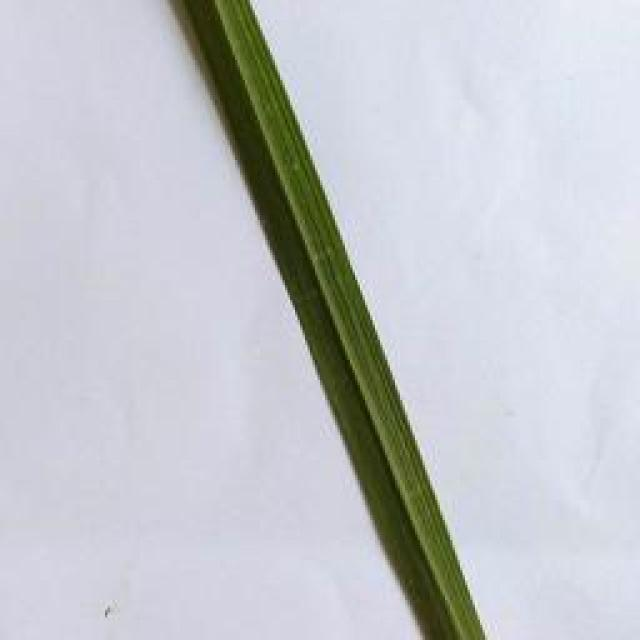Healthy-Plant: (182, 0, 489, 640)
